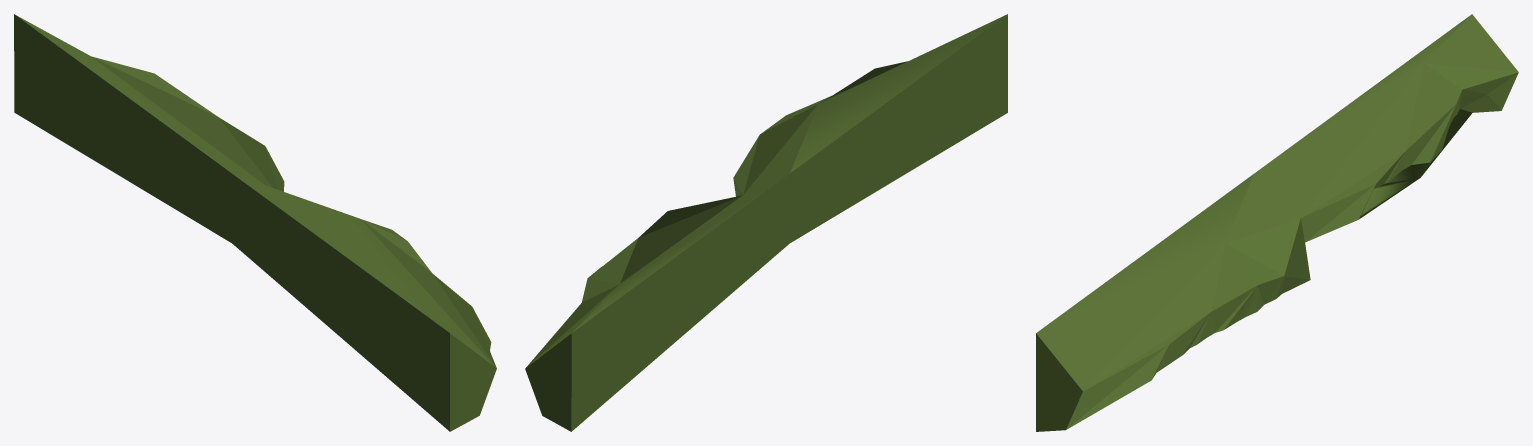
Rendered from LightVegetationEdgeMediumStraight2.fbx.
3 views of the same model, side by side, from view 1: azimuth 30°, elevation 25°; view 2: azimuth 150°, elevation 25°; view 3: azimuth 330°, elevation 25° (orthographic).
Parts seen in each view (by area): view 1: LightVegetationEdgeMediumStraight2; view 2: LightVegetationEdgeMediumStraight2; view 3: LightVegetationEdgeMediumStraight2.
Part boxes in pixels (x1=…): LightVegetationEdgeMediumStraight2: x1=14, y1=14, x2=496, y2=431; LightVegetationEdgeMediumStraight2: x1=525, y1=14, x2=1007, y2=431; LightVegetationEdgeMediumStraight2: x1=1036, y1=14, x2=1518, y2=431.
Size of the model in its own units: 201 by 200 by 1600.
